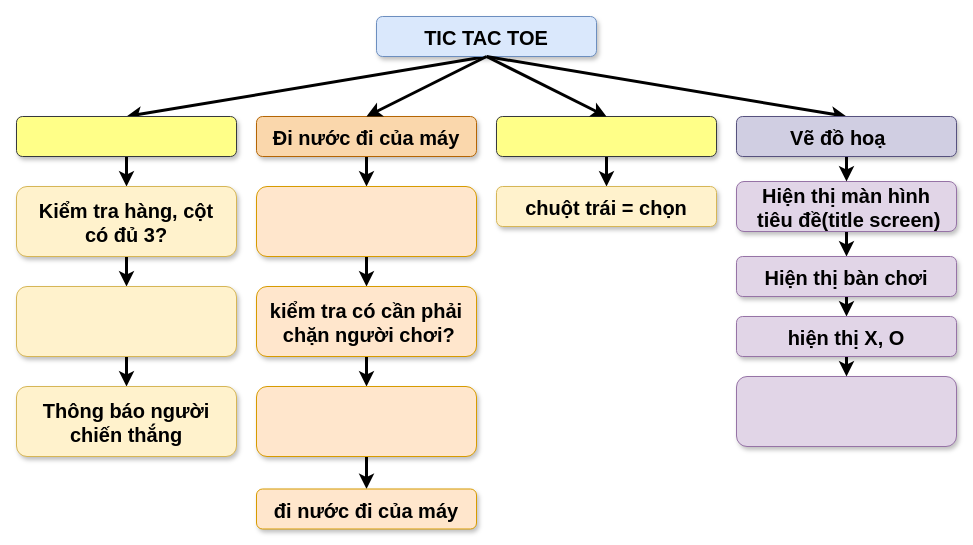
This 973x545 diagram has some shape labels left out. The shapes that lost their labels are listed below. From the top down, each one's centre as x and y in pixels, then its label:
(127,138): Kiểm tra thắng
(607,138): Nhận input
(367,223): kiểm tra nước đi của người chơi
(127,323): Kiểm tra đường chéo có đủ 3?
(367,423): kiểm tra chỗ trống trên bàn chơi
(847,413): hiện thị kết quả và thể hiện người thắng
